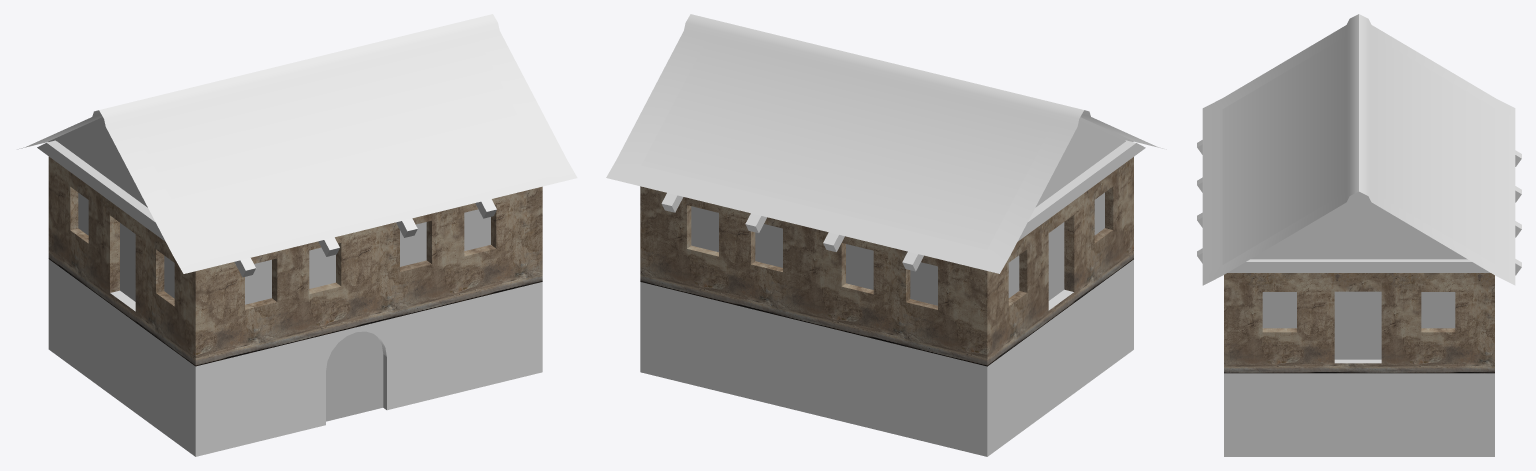
The model's file is House1.fbx.
3 renders of one model, left to right at view 1: azimuth 30°, elevation 25°; view 2: azimuth 150°, elevation 25°; view 3: azimuth 270°, elevation 25°, orthographic. The views are drawn at different scales.
Visible parts, largest first — view 1: polySurface13; view 2: polySurface13; view 3: polySurface13.
Part boxes in pixels (x1,y1,x2,y2): polySurface13: [17, 14, 577, 456]; polySurface13: [606, 14, 1166, 456]; polySurface13: [1197, 14, 1521, 456].
Size of the model in its own units: 25.71 by 18.65 by 19.89.
